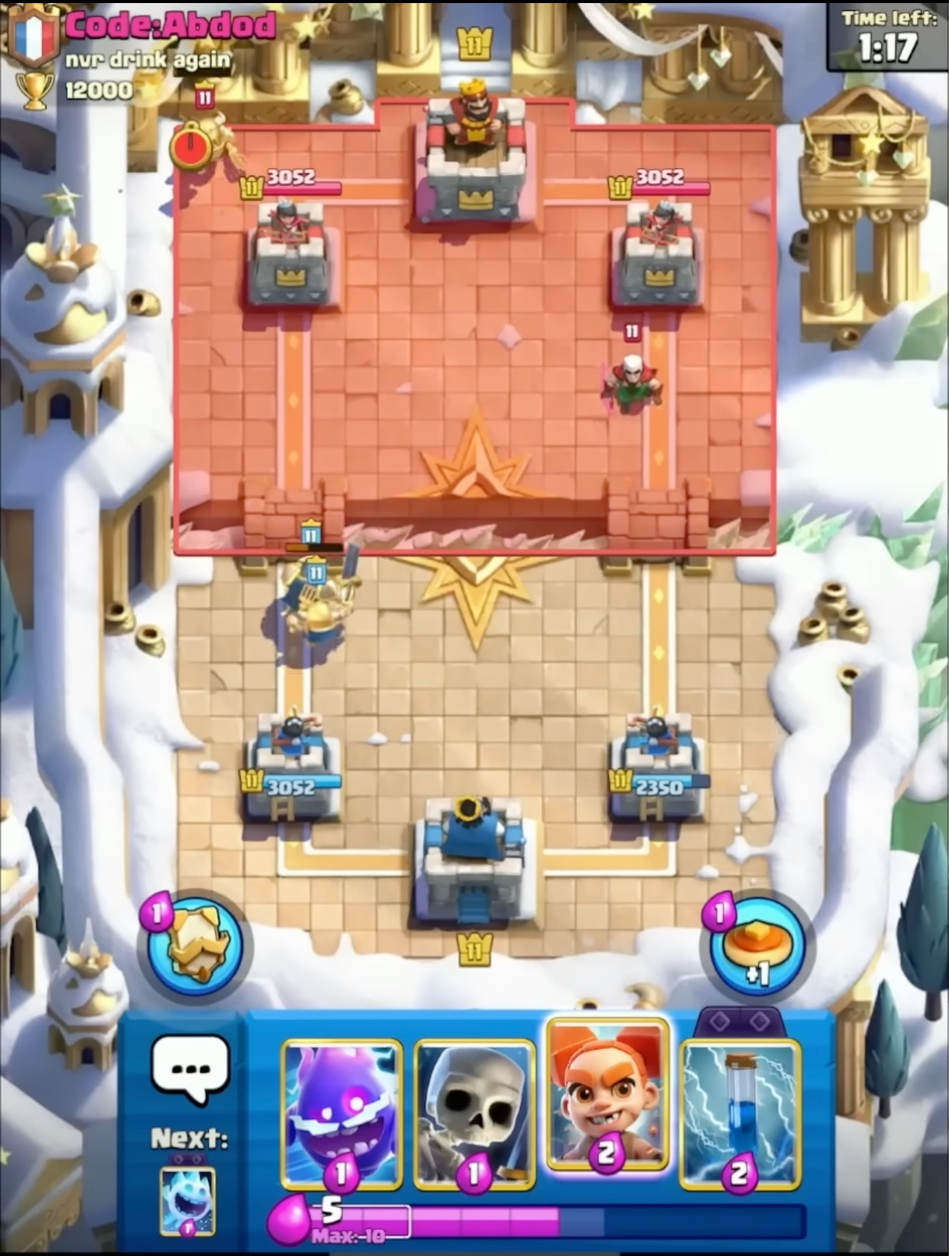hero-mini-pekka: (171, 62, 243, 179)
